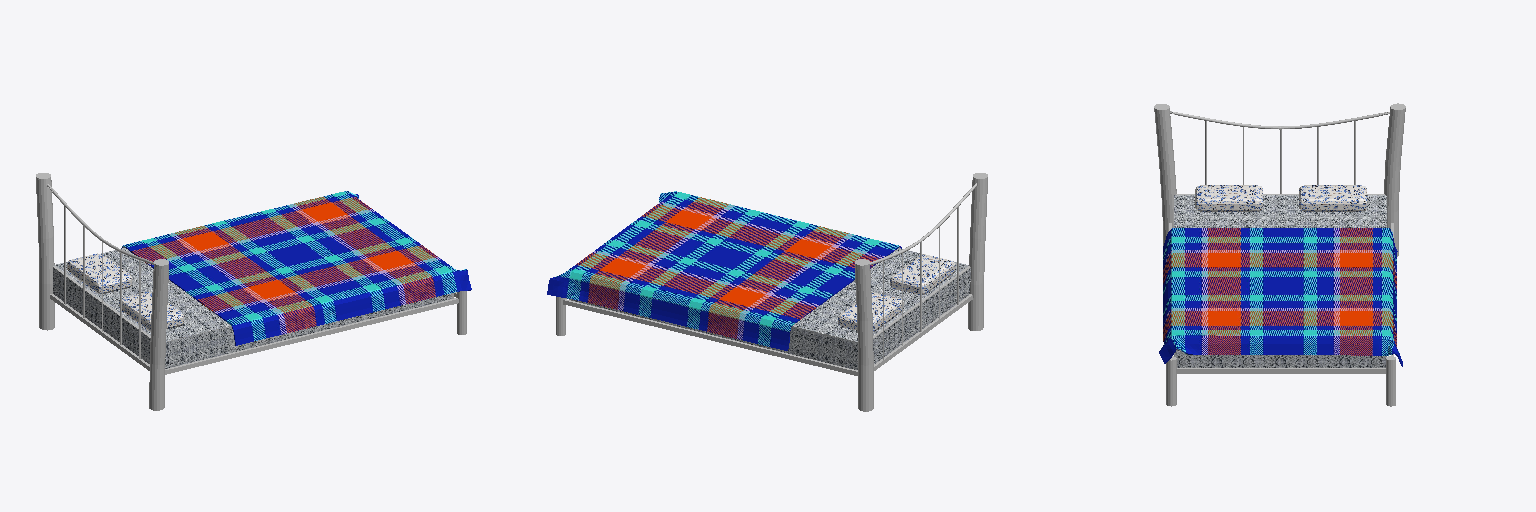
The picture shows the model from 3 angles: view 1: azimuth 30°, elevation 25°; view 2: azimuth 150°, elevation 25°; view 3: azimuth 270°, elevation 25°; orthographic projection.
Visible parts, largest first — view 1: Bed_bedroom.029; view 2: Bed_bedroom.029; view 3: Bed_bedroom.029.
Part boxes in pixels (left/top/right/bottom): Bed_bedroom.029: left=36, top=173, right=471, bottom=410; Bed_bedroom.029: left=547, top=173, right=987, bottom=411; Bed_bedroom.029: left=1154, top=103, right=1405, bottom=406.
Bounding box in the file's own units: 4.02 × 1.78 × 2.74.
4 materials, 3 textured.